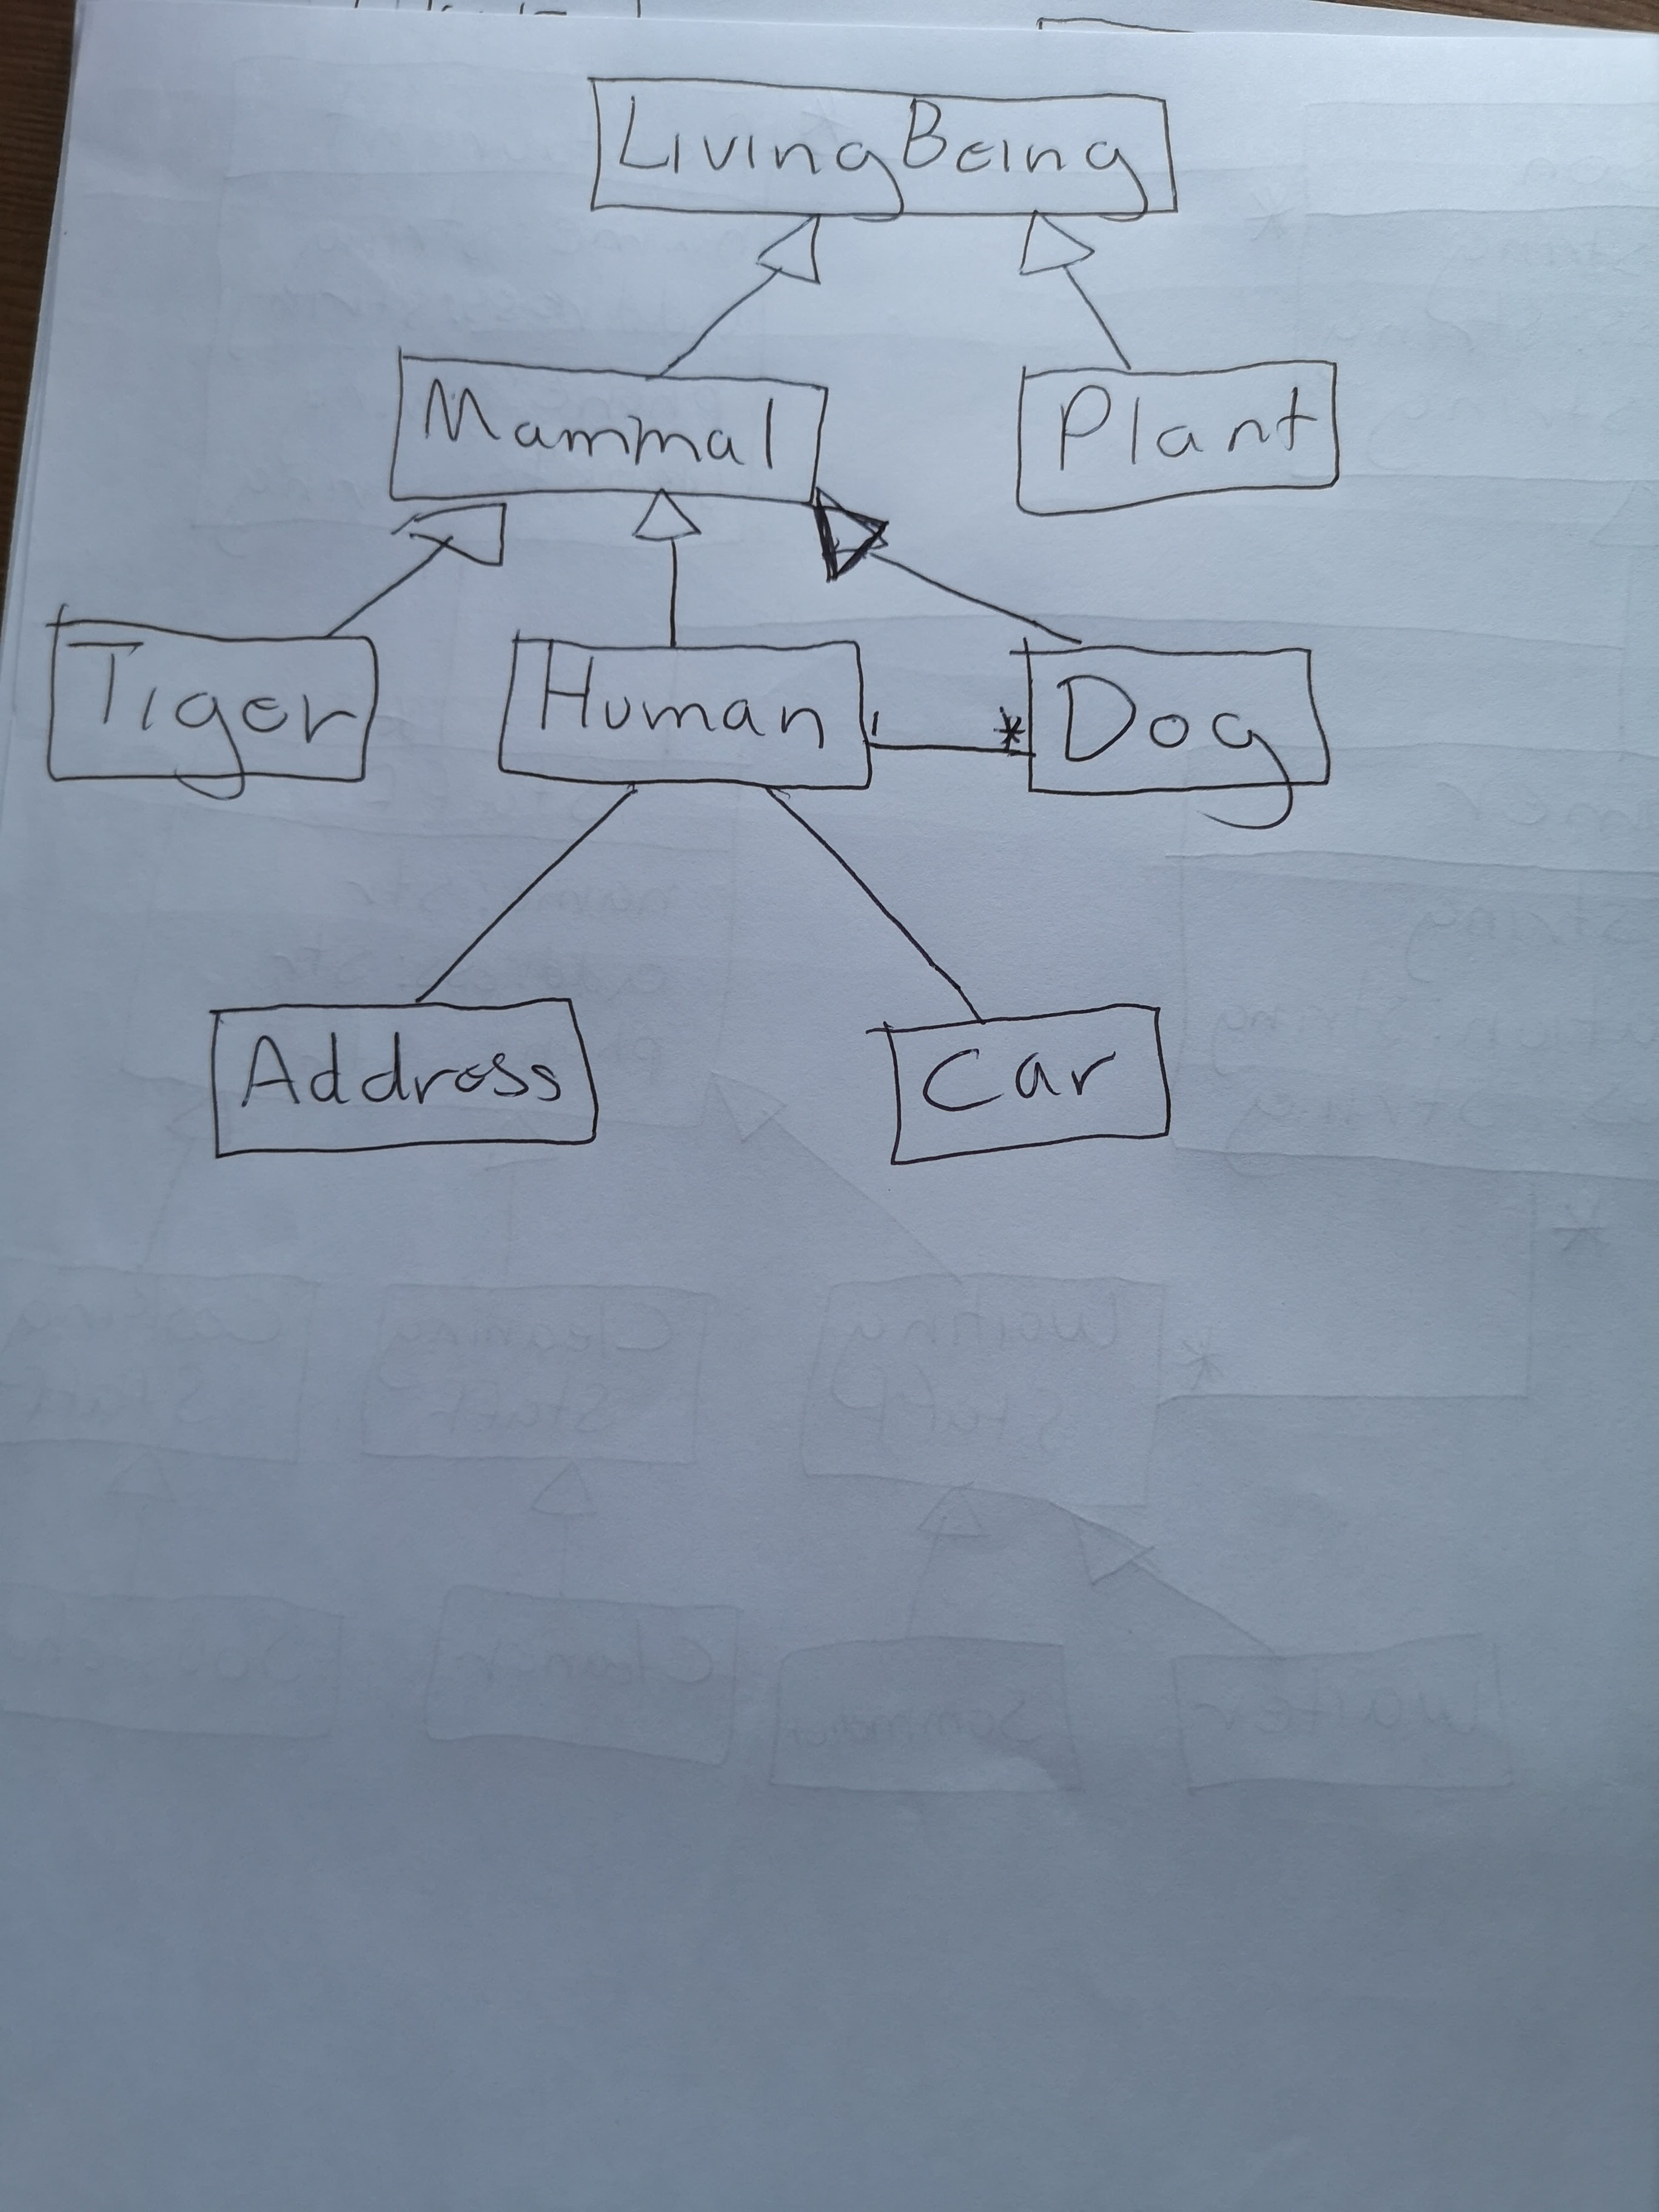association: (754, 788, 988, 1034), (417, 791, 634, 1005)
inheritance: (806, 481, 1096, 648), (640, 211, 825, 384), (324, 499, 512, 642), (1014, 209, 1149, 376), (623, 490, 709, 655)
simple class: (579, 64, 1181, 220), (387, 349, 831, 512), (39, 596, 382, 800), (491, 622, 878, 797), (204, 994, 606, 1157), (1010, 352, 1357, 520), (869, 997, 1179, 1167), (1011, 640, 1337, 799)
